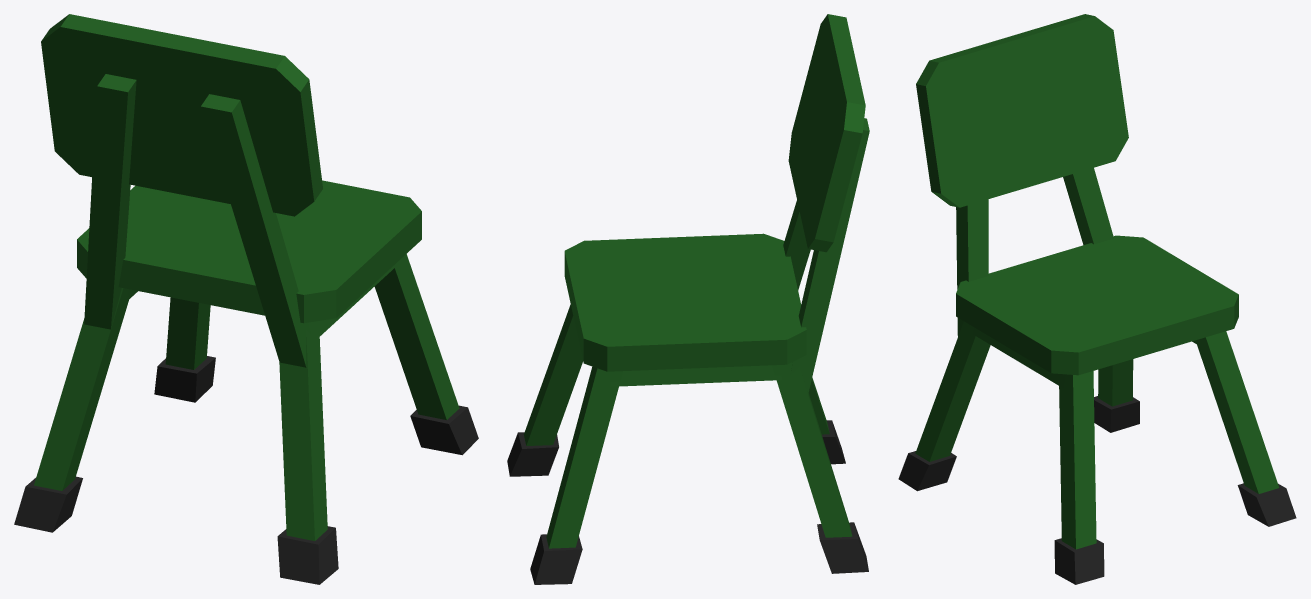
File: ghe2.fbx
The picture shows the model from 3 angles, left to right: view 1: azimuth 30°, elevation 25°; view 2: azimuth 150°, elevation 25°; view 3: azimuth 270°, elevation 25°; orthographic projection. The views are drawn at different scales.
Parts seen in each view (by area): view 1: ghe2; view 2: ghe2; view 3: ghe2.
Part boxes in pixels (box(x1,y1,x2,y2)): ghe2: box(14, 14, 478, 584); ghe2: box(507, 14, 869, 584); ghe2: box(898, 14, 1296, 584).
Bounding box in the file's own units: 142 × 159 × 139.
